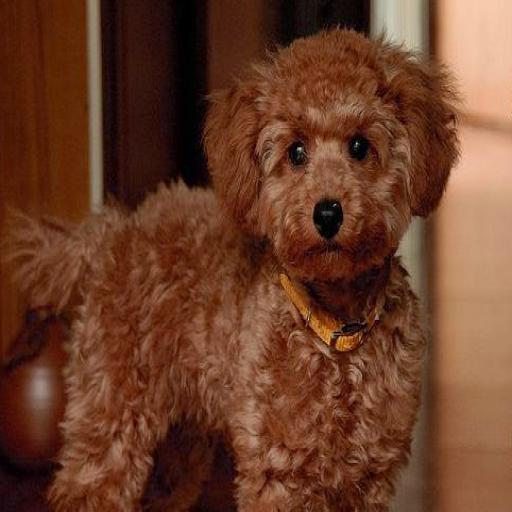dog_face: (216, 40, 454, 270)
